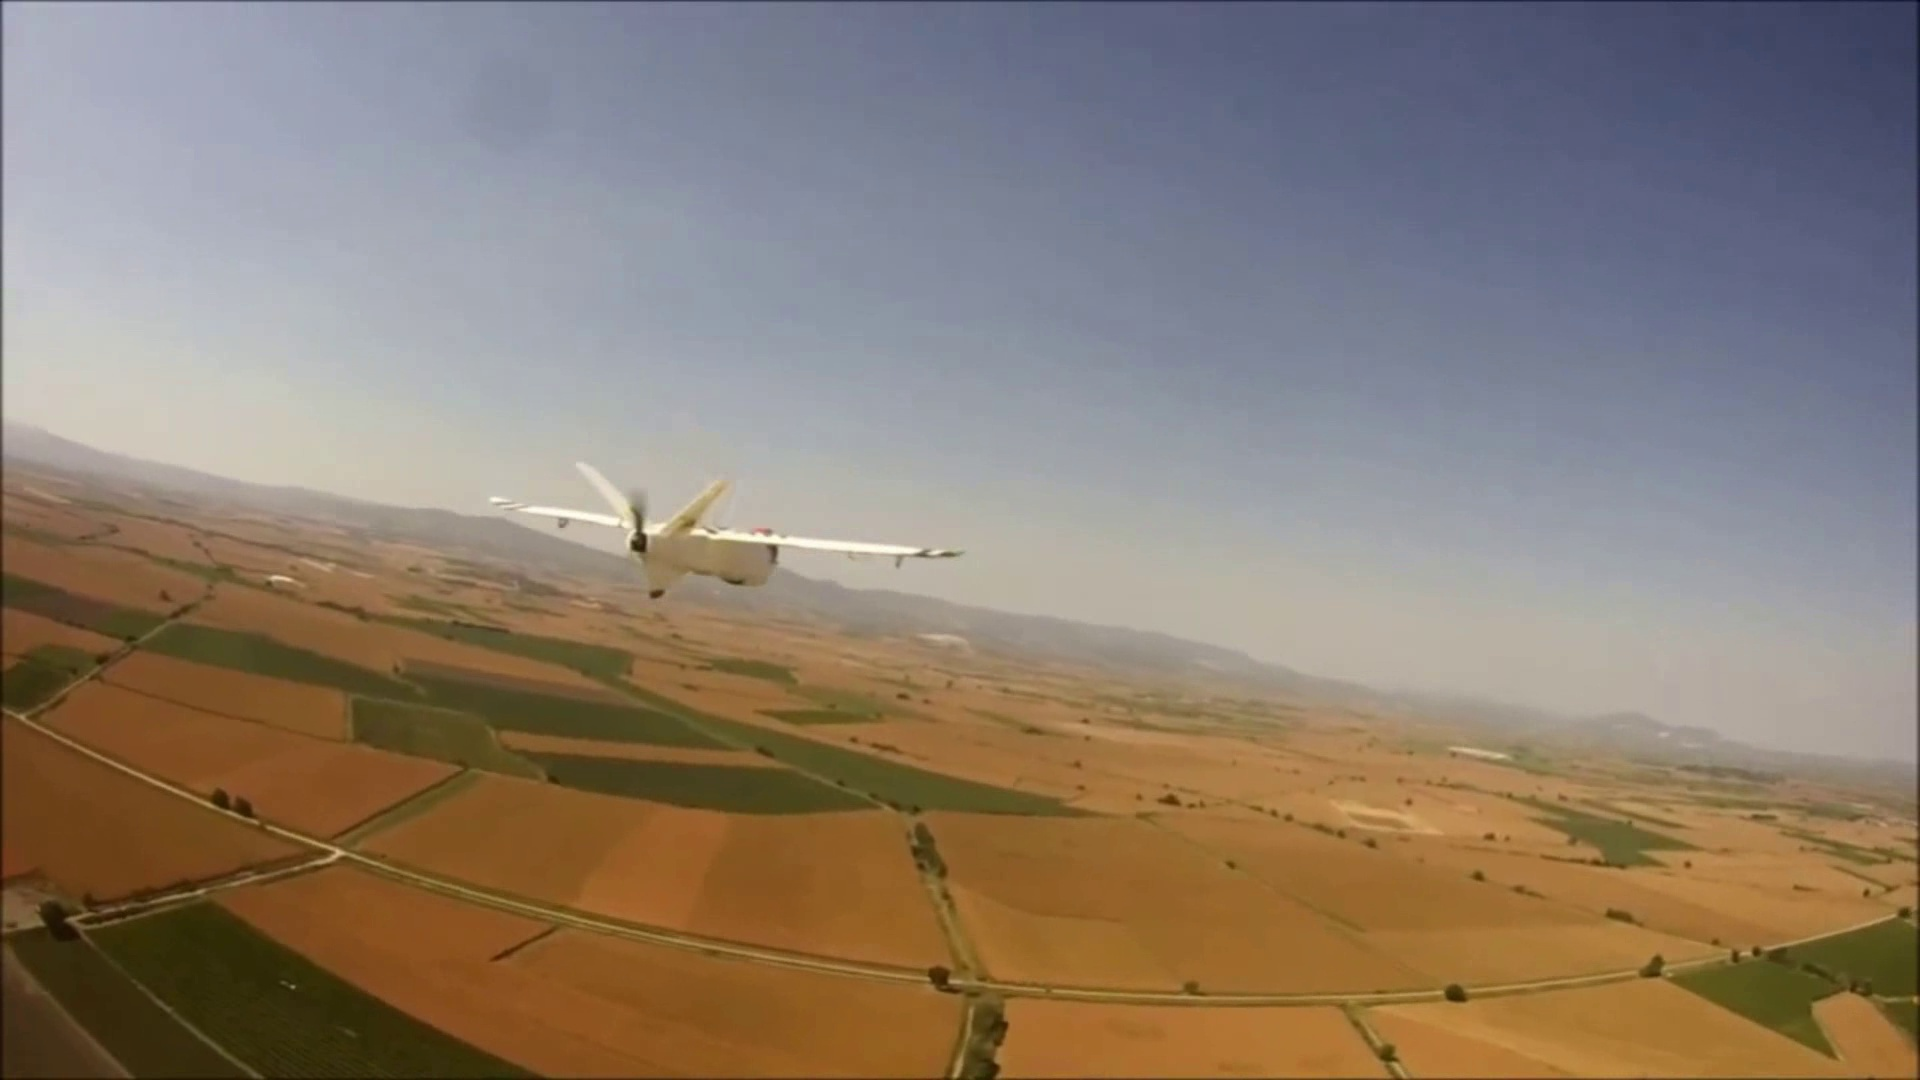airplane: (501, 454, 963, 595)
